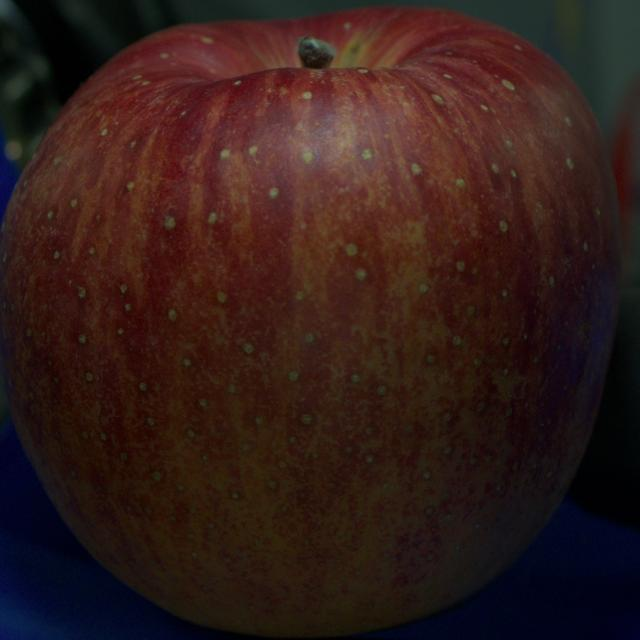apple: (0, 8, 621, 637)
